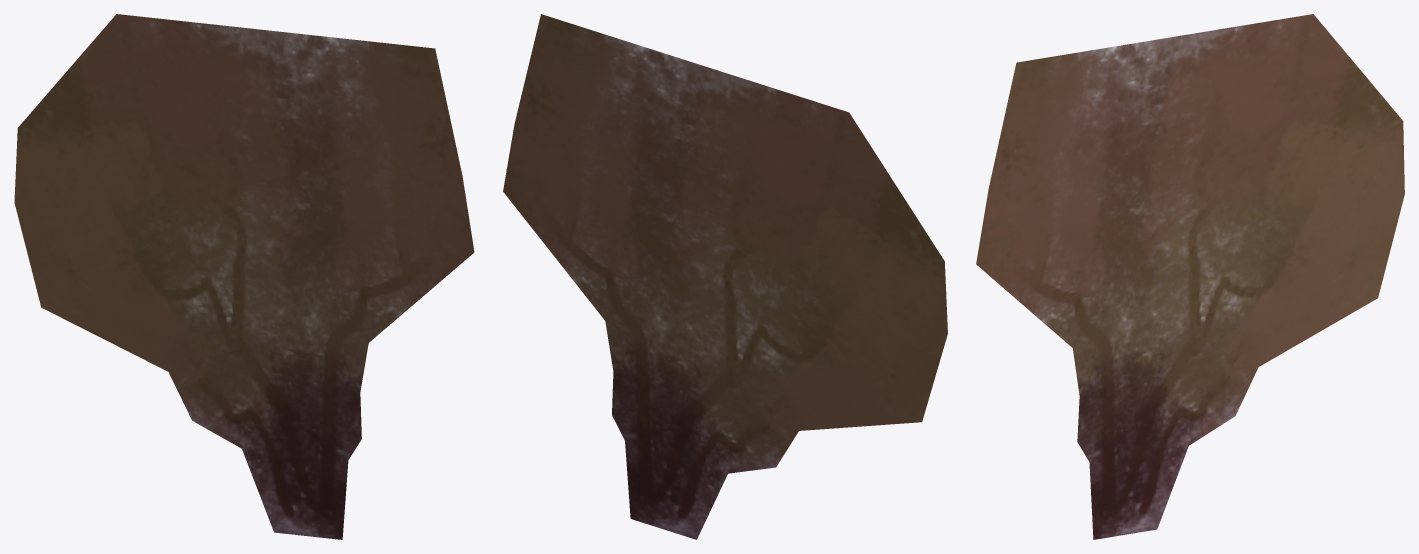
Rendered from branch5.fbx.
3 views of the same model, side by side, from view 1: azimuth 30°, elevation 25°; view 2: azimuth 210°, elevation 25°; view 3: azimuth 270°, elevation 25° (orthographic). The views are drawn at different scales.
Parts seen in each view (by area): view 1: branch5; view 2: branch5; view 3: branch5.
Part boxes in pixels (<box>): branch5: <box>14,14,474,539</box>; branch5: <box>503,14,947,539</box>; branch5: <box>976,14,1404,539</box>.
Bounding box in the file's own units: 395 × 795 × 605.
